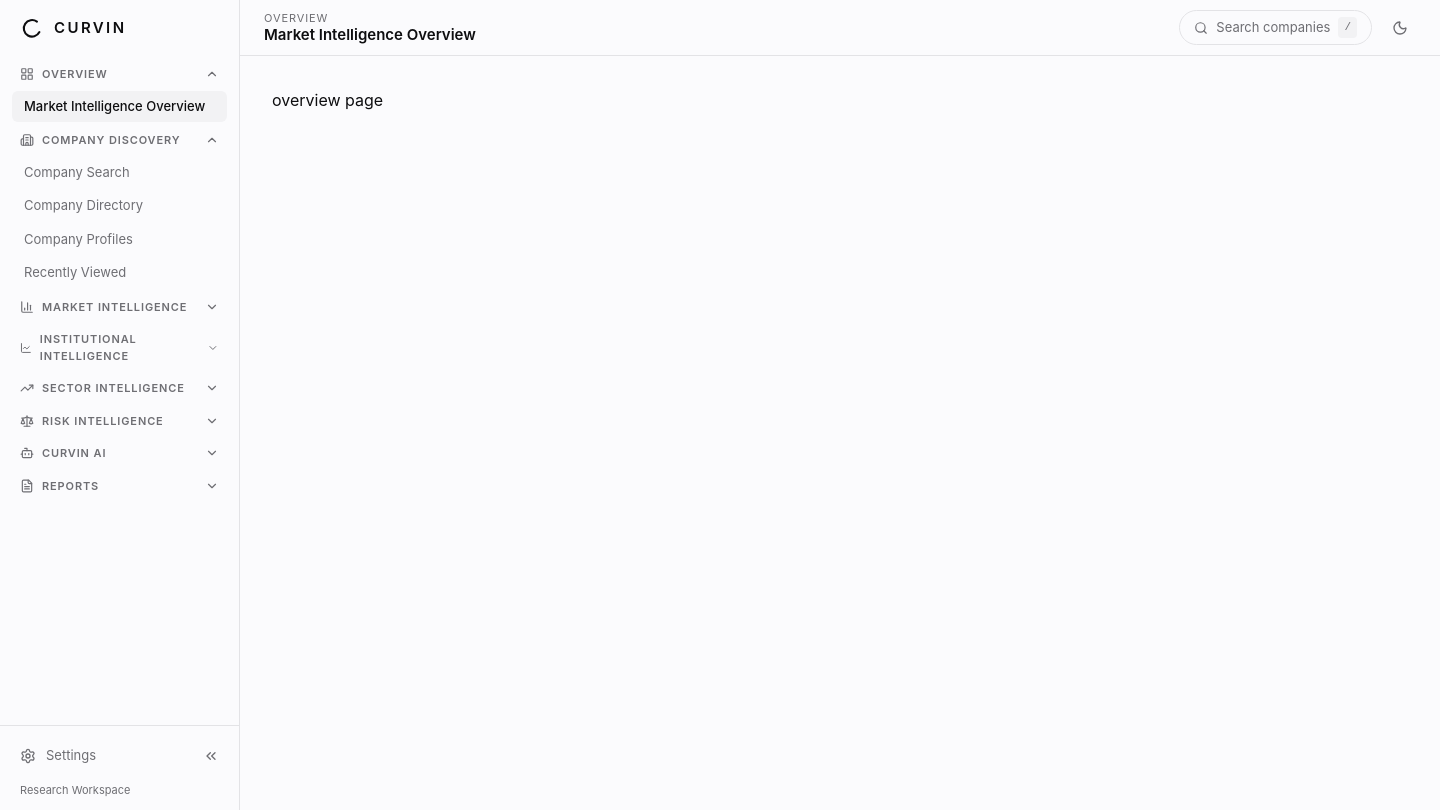
AppLayout shell › labels future modules without hiding them
Click the button "Market Intelligence".
click(120, 307)  # box top-left (12, 292), bottom-right (227, 321)
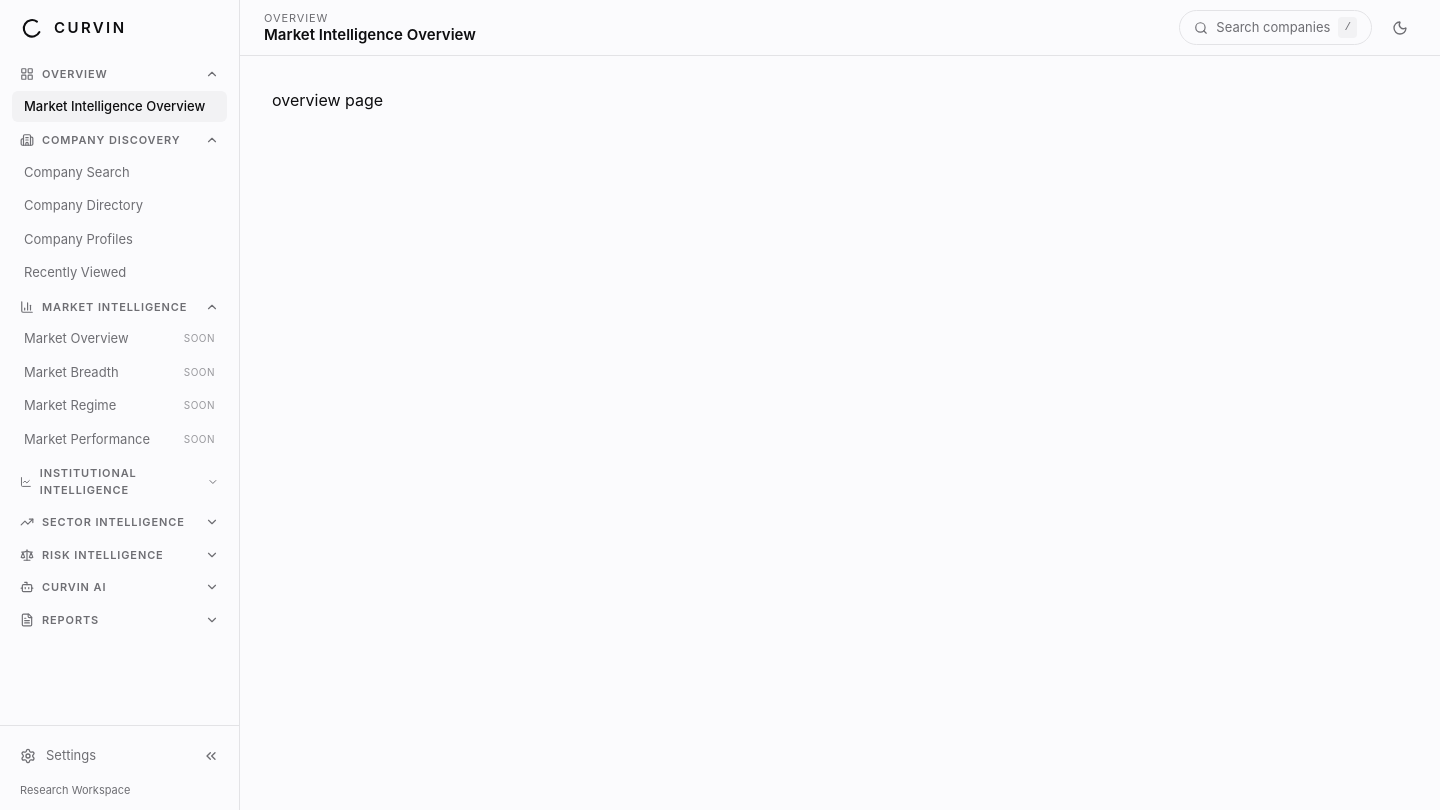
Expected: the text "Market Overview" is shown, top-left (24, 330), bottom-right (129, 346)
